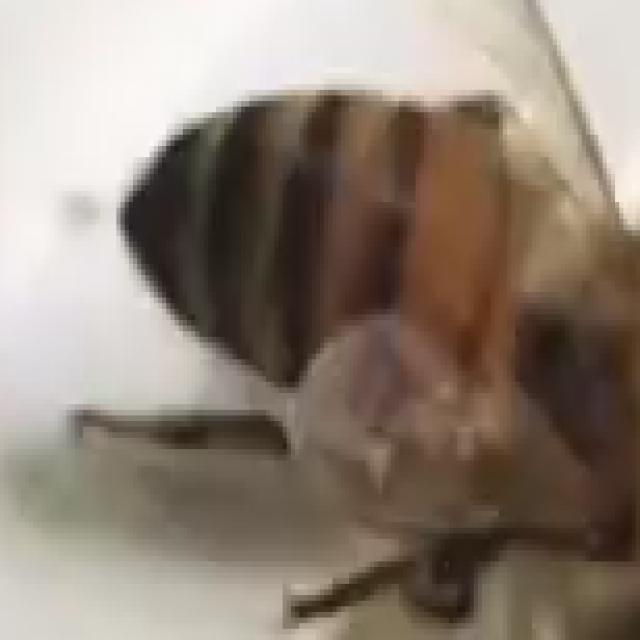honeybee: (105, 75, 640, 640)
